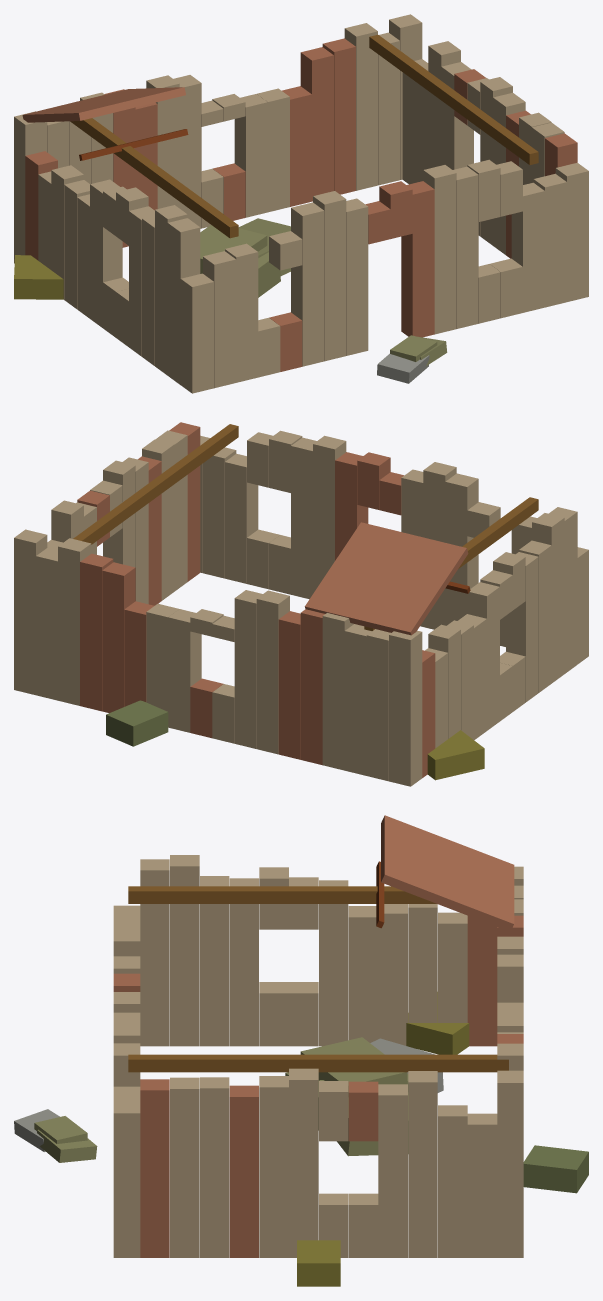
Rendered from SM_CasaRuina_v0_SinTejado_LOD1.fbx.
3 views of the same model, one above another, from view 1: azimuth 30°, elevation 25°; view 2: azimuth 150°, elevation 25°; view 3: azimuth 270°, elevation 25° (orthographic). The views are drawn at different scales.
Parts seen in each view (by area): view 1: SM_casa_ruina_v0_LOD1; view 2: SM_casa_ruina_v0_LOD1; view 3: SM_casa_ruina_v0_LOD1.
Part boxes in pixels (x1,y1,x2,y2): SM_casa_ruina_v0_LOD1: (14, 14, 588, 393); SM_casa_ruina_v0_LOD1: (14, 422, 588, 786); SM_casa_ruina_v0_LOD1: (14, 815, 588, 1286).
Size of the model in its own units: 11 by 4.27 by 9.82.
